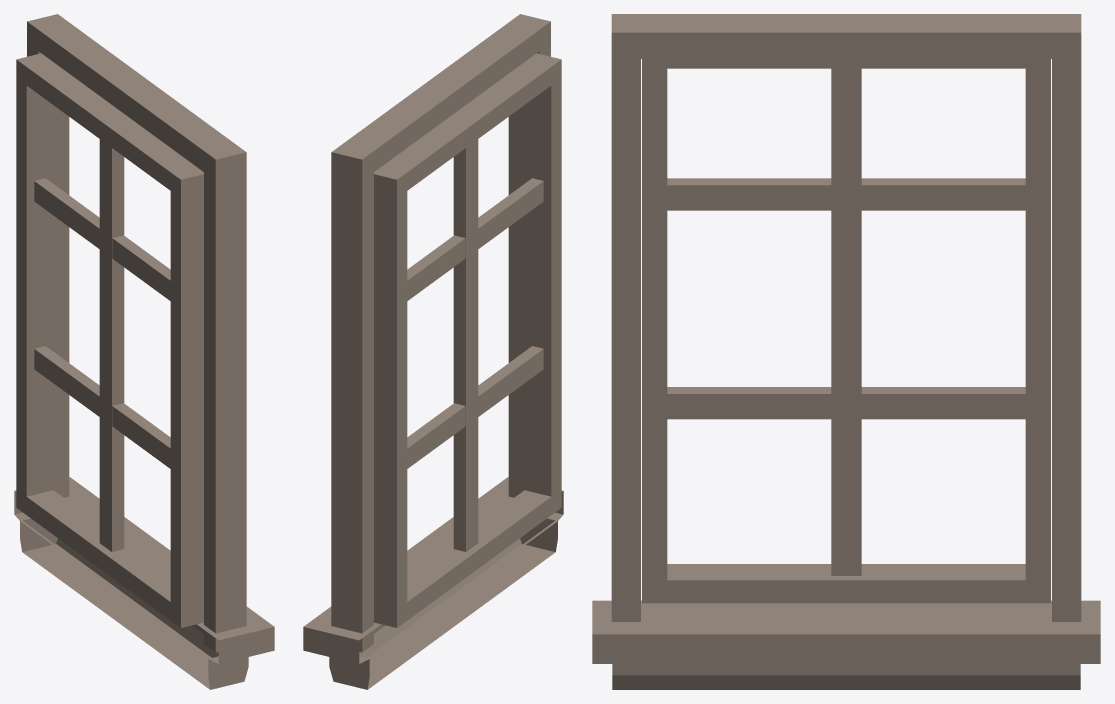
The model's file is Wall_Window01.fbx.
3 renders of one model, left to right at view 1: azimuth 30°, elevation 25°; view 2: azimuth 150°, elevation 25°; view 3: azimuth 270°, elevation 25°, orthographic. The views are drawn at different scales.
Visible parts, largest first — view 1: Wall_Window01; view 2: Wall_Window01; view 3: Wall_Window01.
Boxes of the visible parts, box(x1,y1,x2,y2) form: Wall_Window01: box(14, 14, 274, 689); Wall_Window01: box(303, 14, 563, 689); Wall_Window01: box(592, 14, 1100, 689).
Size of the model in its own units: 42.73 by 293 by 205.
